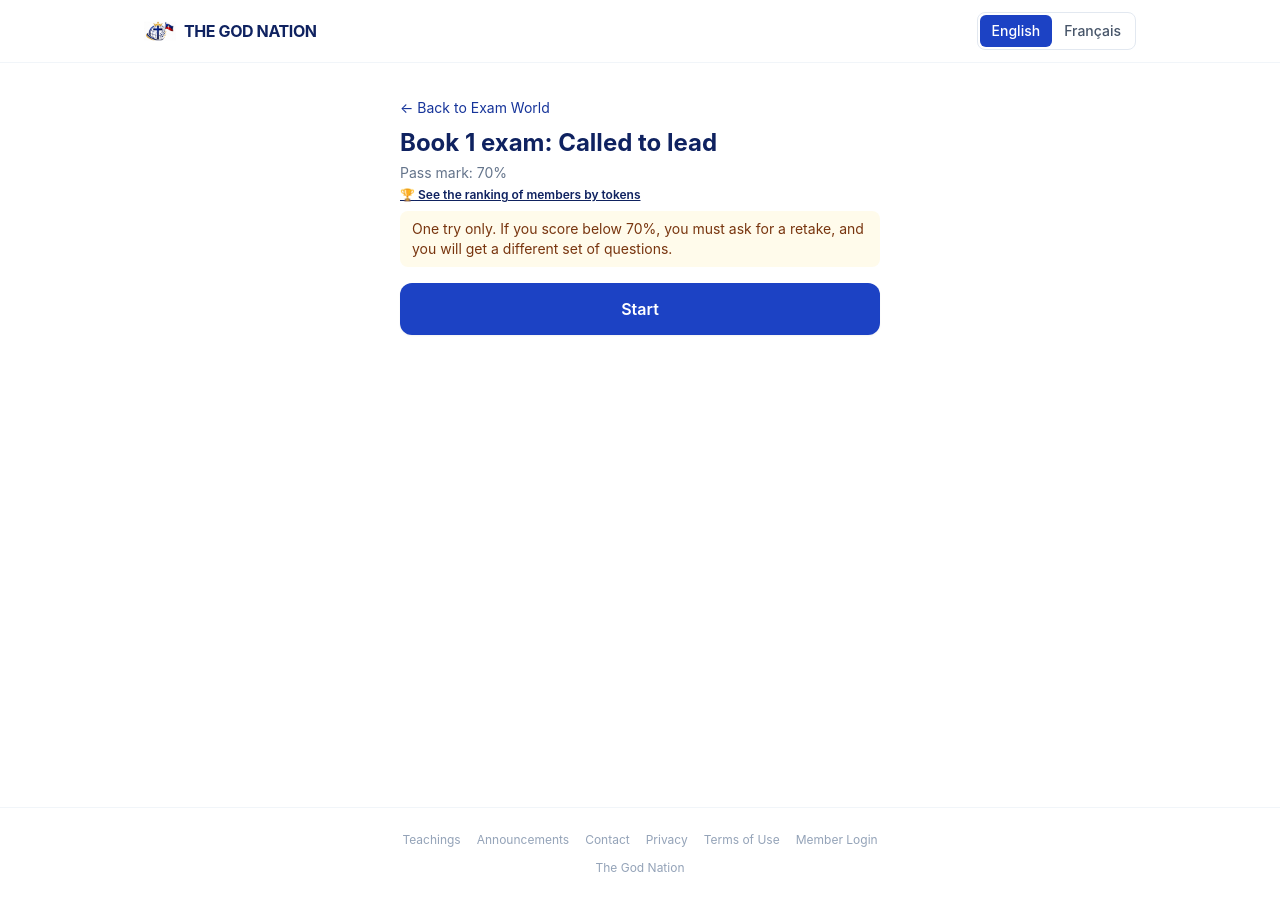
Test case: Leadership book exam › explains the one-try rule before starting, keeps chosen answers on the phone, and never shows the correct answers
Expected: the text "One try only. If you score below 70%" is shown, [412,220,864,257]
Click the button "Start". click: (640, 309)
box: [400,283,880,335]
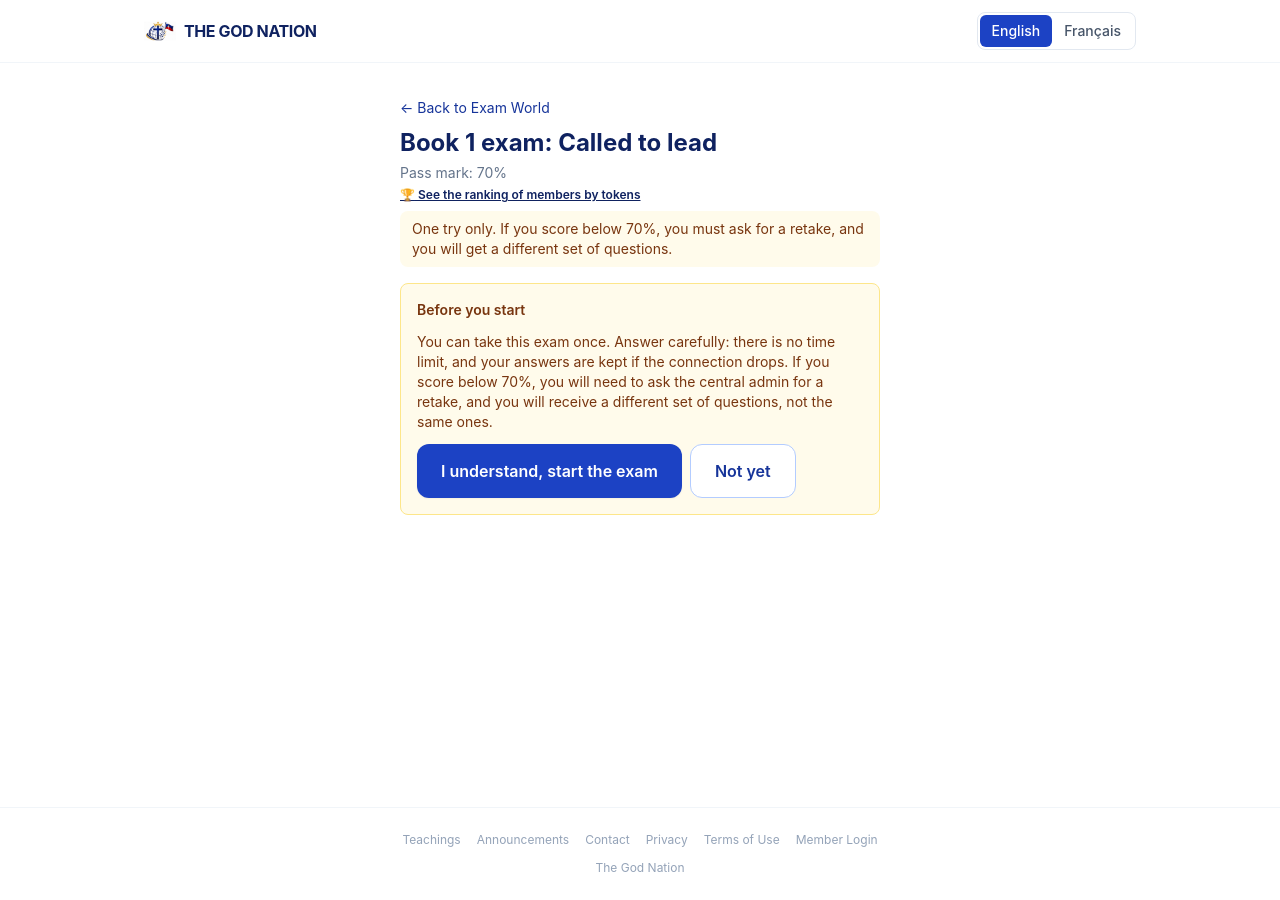
Expected: the text "Before you start" is shown, [417,301,525,318]
Click the button "I understand, start the exam". click: (549, 471)
box: [417,444,682,498]
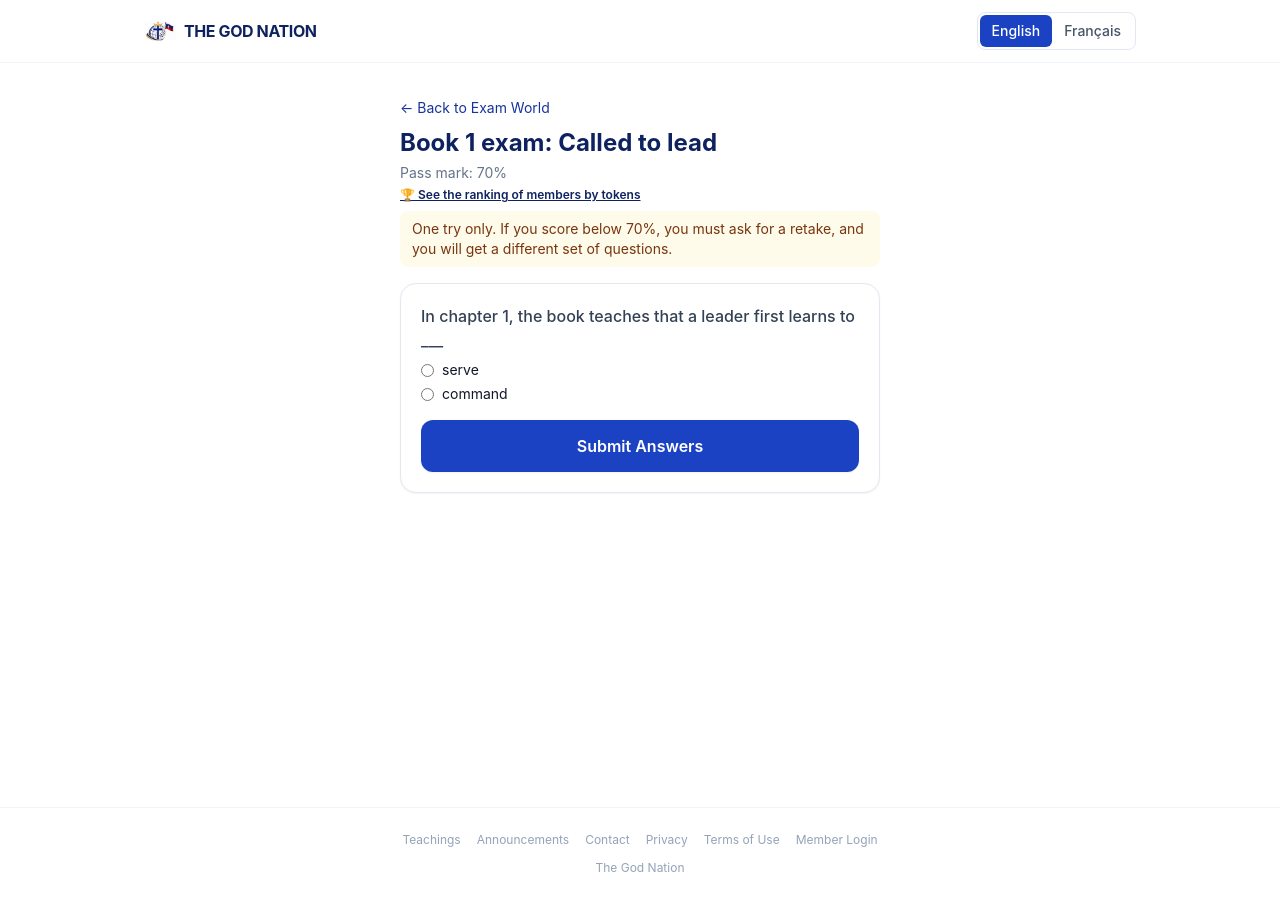
Click the radio button labelled "serve". click: (428, 370)
box: [421,364,434,376]
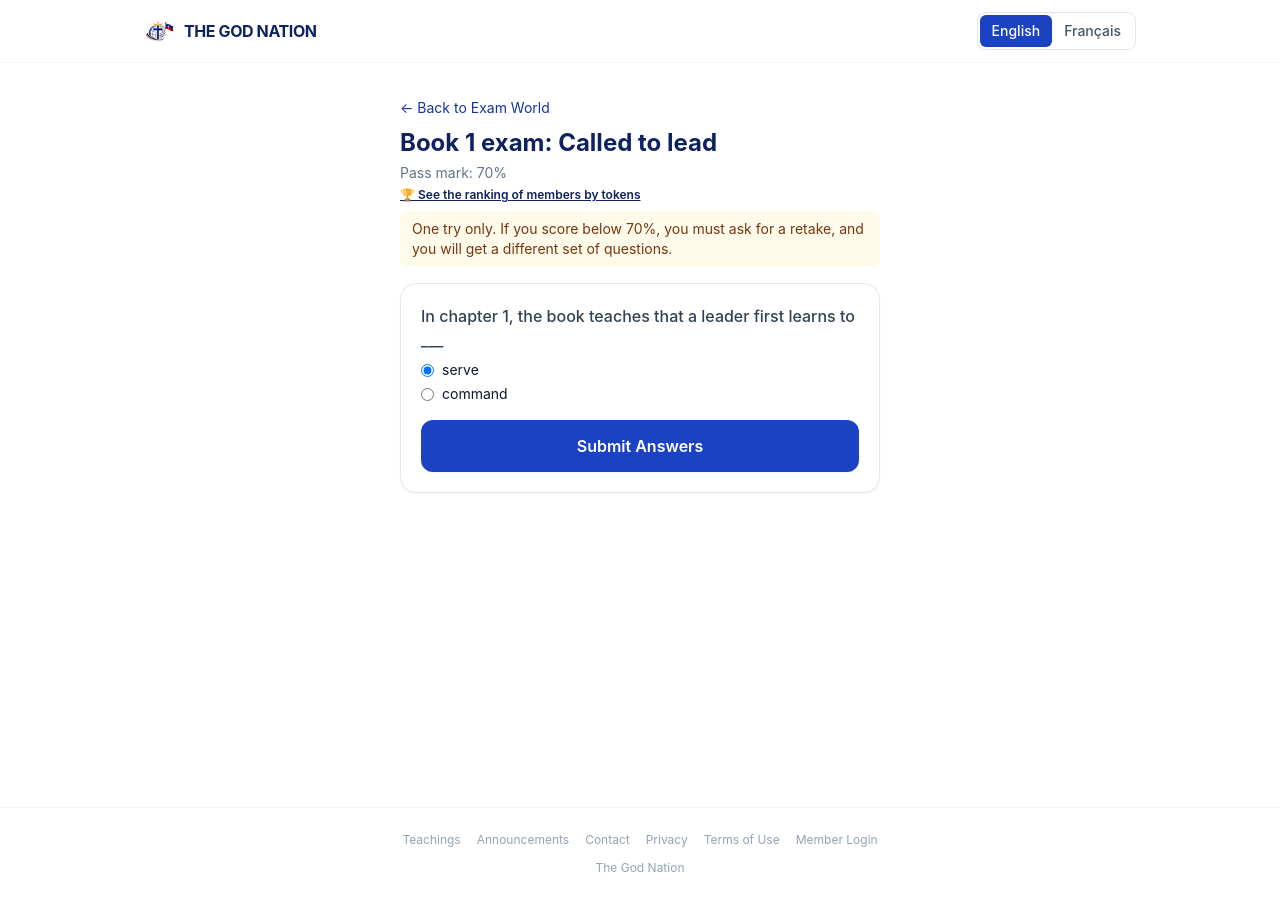
Click the button "Submit Answers". click: (640, 446)
box: [421,420,859,472]
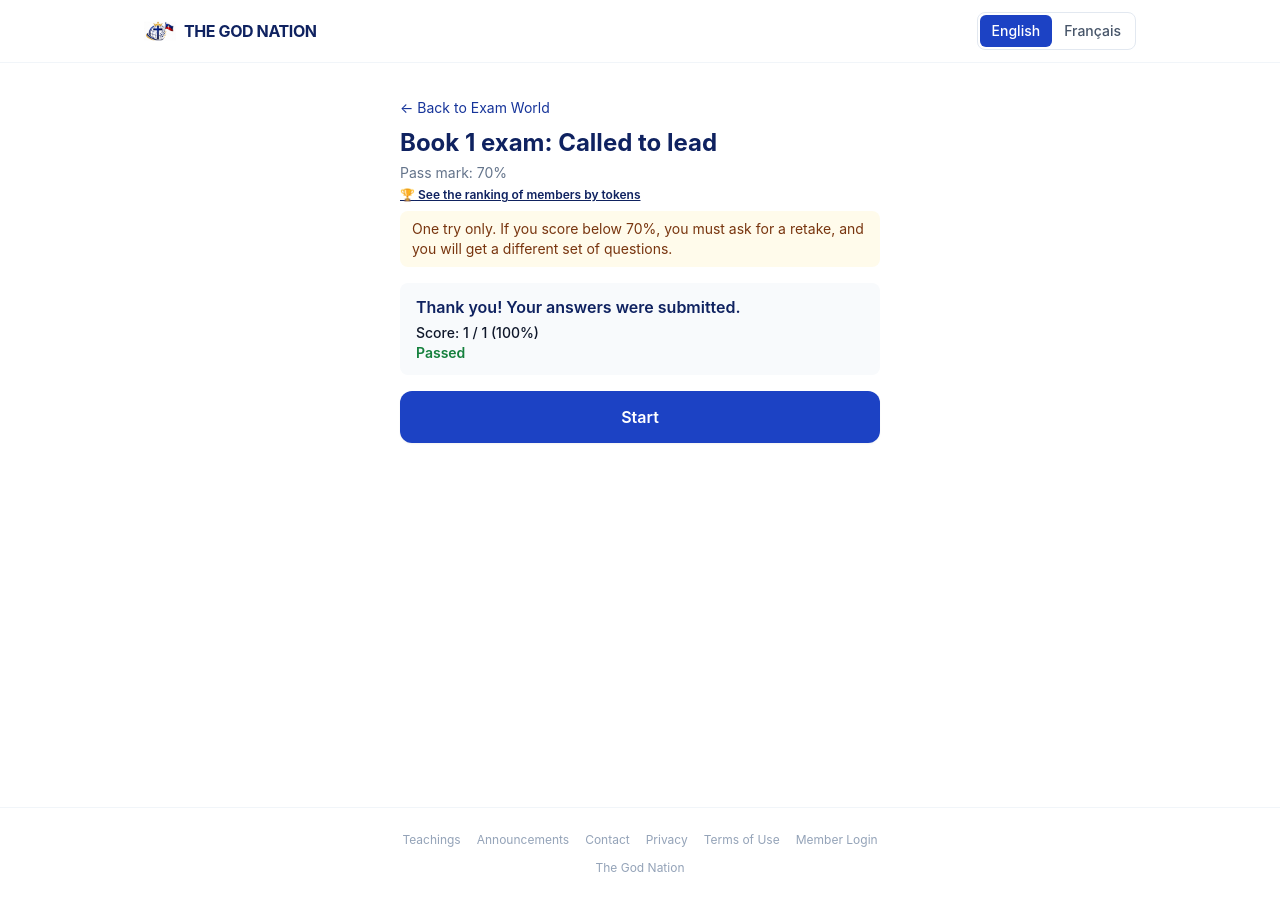
Expected: the text "Score: 1 / 1 (100%)" is shown, [416,324,539,341]
